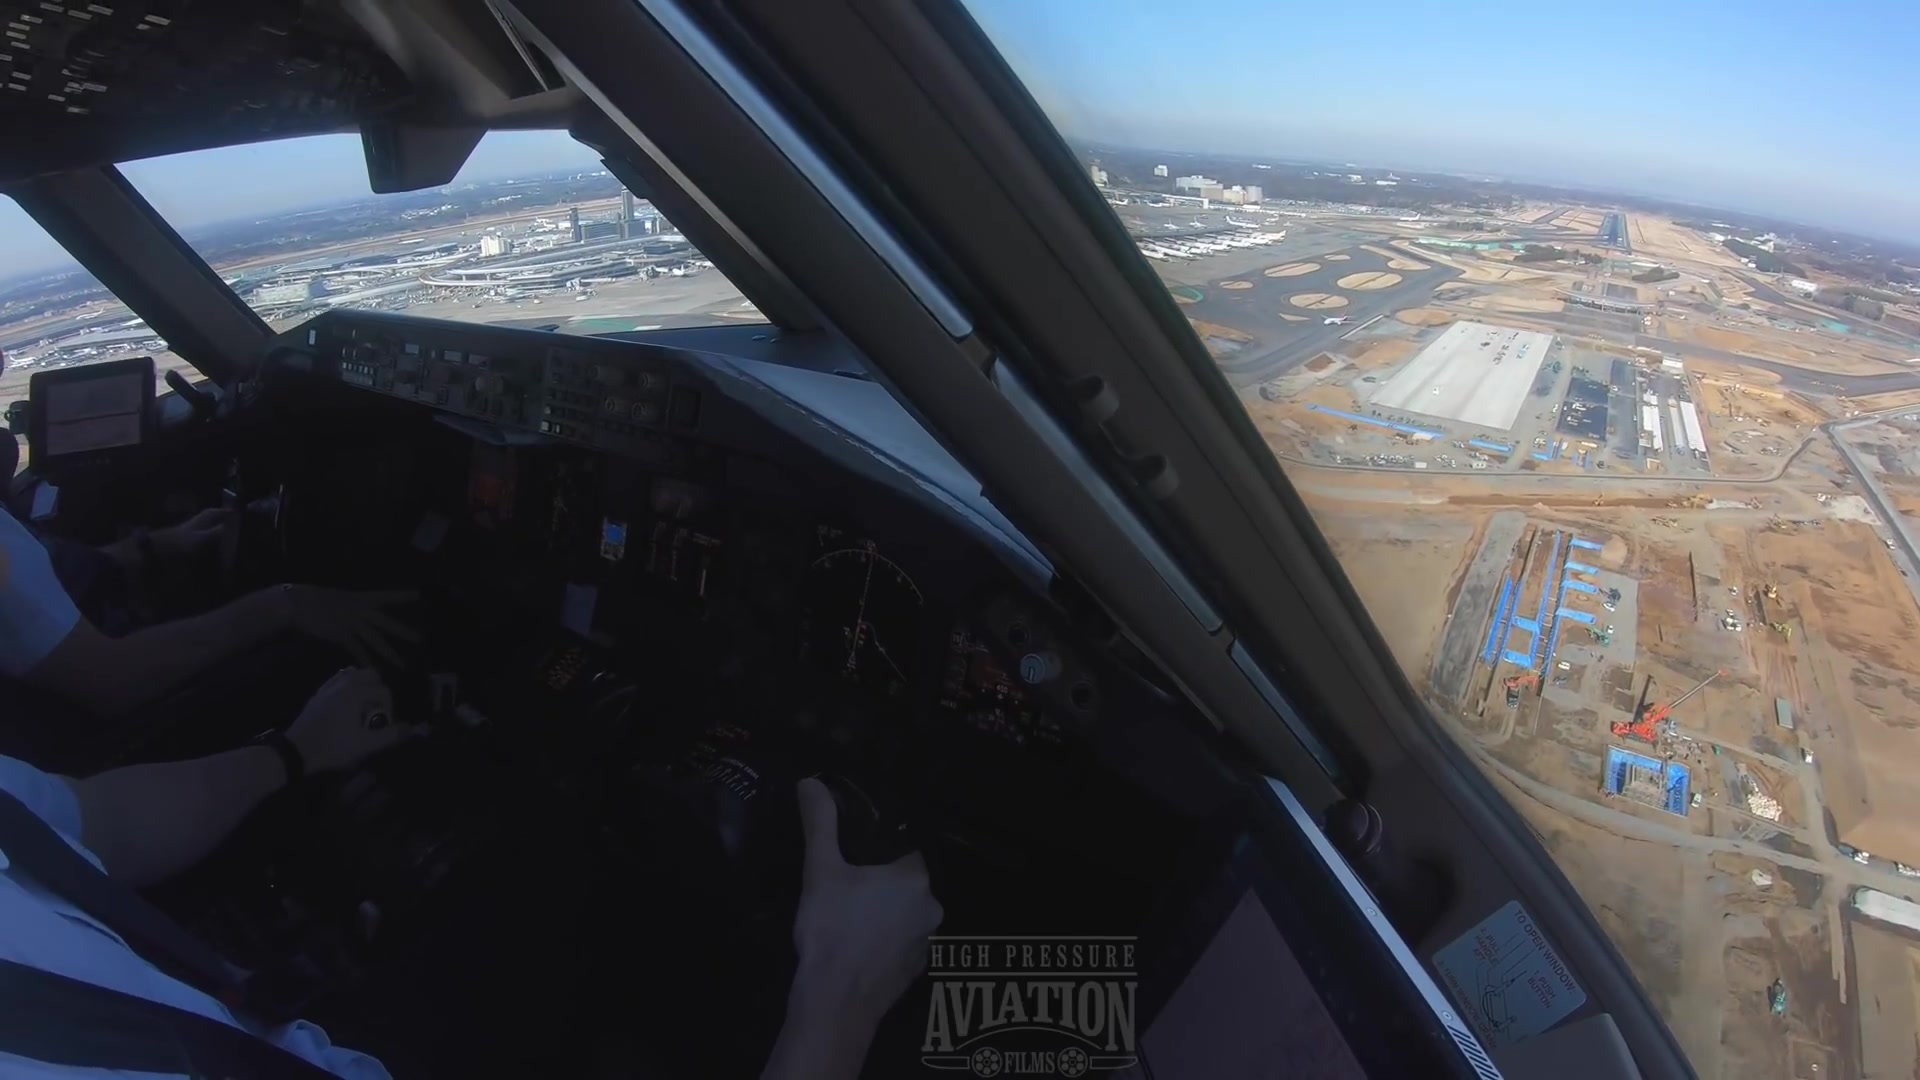runway: (1593, 210, 1631, 251)
